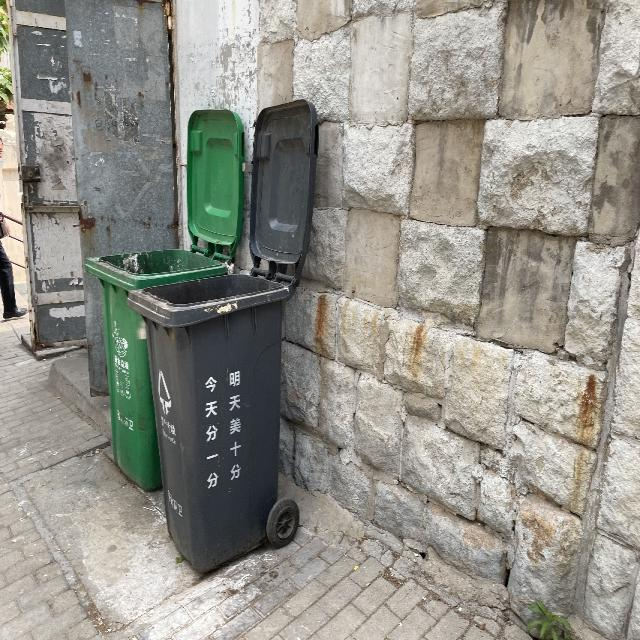garbage_bin: (125, 266, 288, 577), (88, 250, 225, 491)
